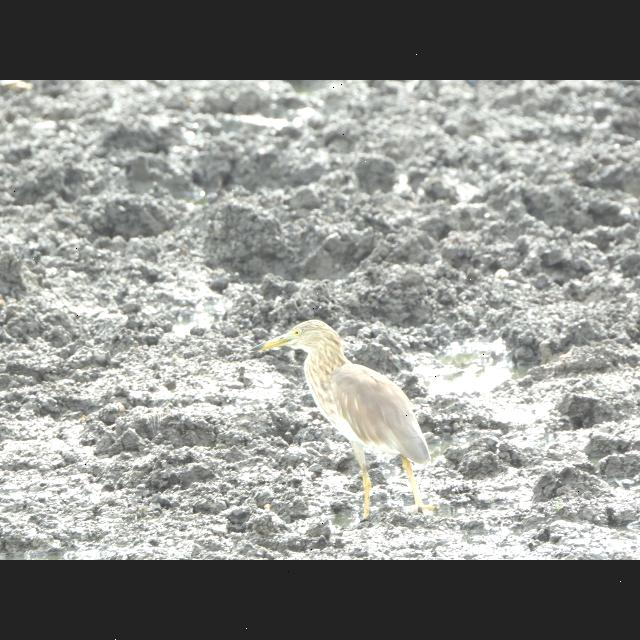heron: (262, 315, 438, 505)
